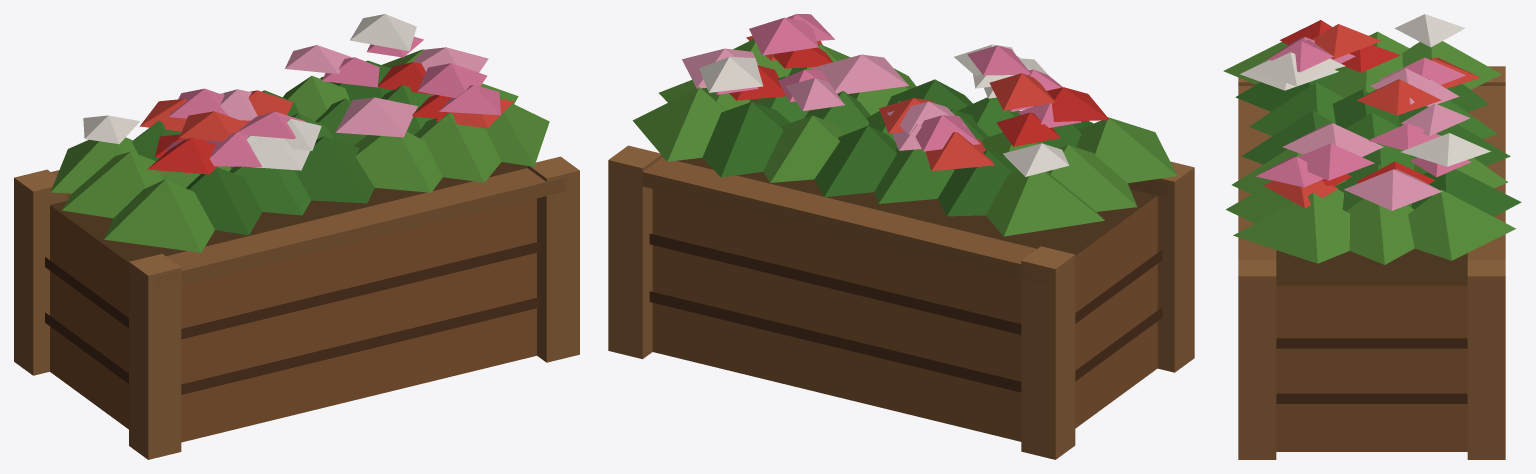
File: town_planter.glb
The picture shows the model from 3 angles, left to right: view 1: azimuth 30°, elevation 25°; view 2: azimuth 150°, elevation 25°; view 3: azimuth 270°, elevation 25°; orthographic projection. The views are drawn at different scales.
Visible parts, largest first — view 1: town_planter; view 2: town_planter; view 3: town_planter.
Boxes of the visible parts, x1,y1,x2,y2 form: town_planter: (14,14,579,459); town_planter: (608,14,1194,459); town_planter: (1223,14,1521,459).
Bounding box in the file's own units: 1.38 × 0.8247 × 0.7813.
